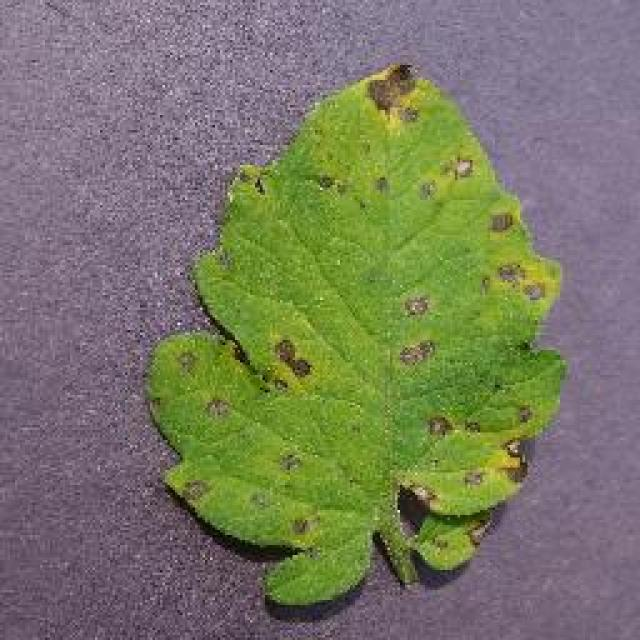Tomato___Septoria_leaf_spot: (150, 65, 562, 615)
